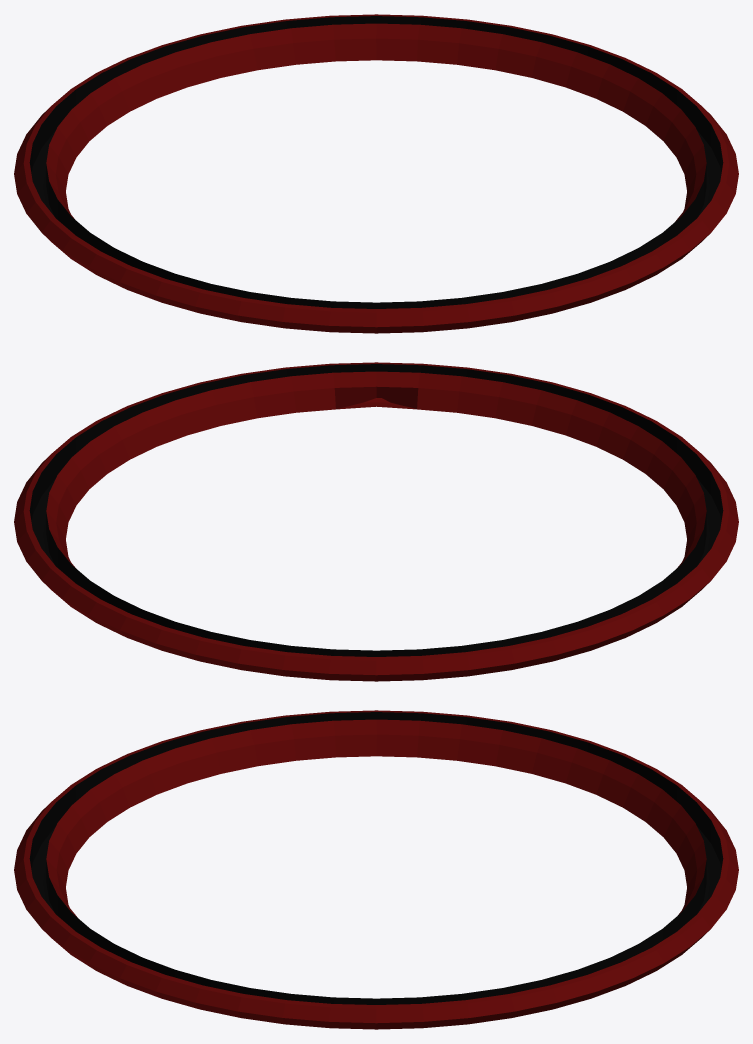
Rendered from spinTrapHinge.fbx.
3 renders of one model, top to bottom at view 1: azimuth 30°, elevation 25°; view 2: azimuth 150°, elevation 25°; view 3: azimuth 270°, elevation 25°, orthographic.
Visible parts, largest first — view 1: Torus, Torus.001; view 2: Torus, Torus.001; view 3: Torus, Torus.001.
Part boxes in pixels (box(x1,y1,x2,y2)): Torus: box(14, 14, 738, 333); Torus.001: box(29, 16, 723, 308); Torus: box(14, 362, 738, 681); Torus.001: box(29, 364, 723, 656); Torus: box(14, 710, 738, 1029); Torus.001: box(29, 712, 723, 1004).
Size of the model in its own units: 1574 by 72.83 by 1574.
